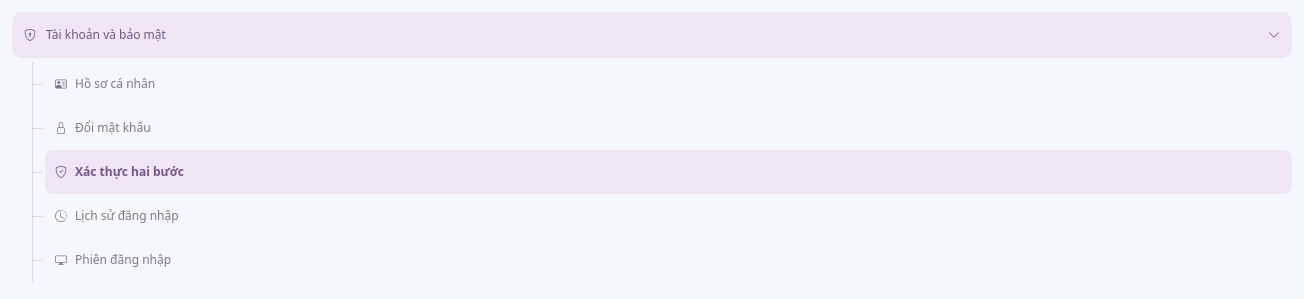
opens the account tree on a child route and links to all five screens
Check: the number of links is 5, box [55, 74, 155, 94]; [55, 118, 151, 138]; [45, 150, 1292, 194]; [55, 206, 179, 226]; [55, 250, 171, 270]
Click the button "Tài khoản và bảo mật" at (106, 35), box [12, 12, 1292, 58]
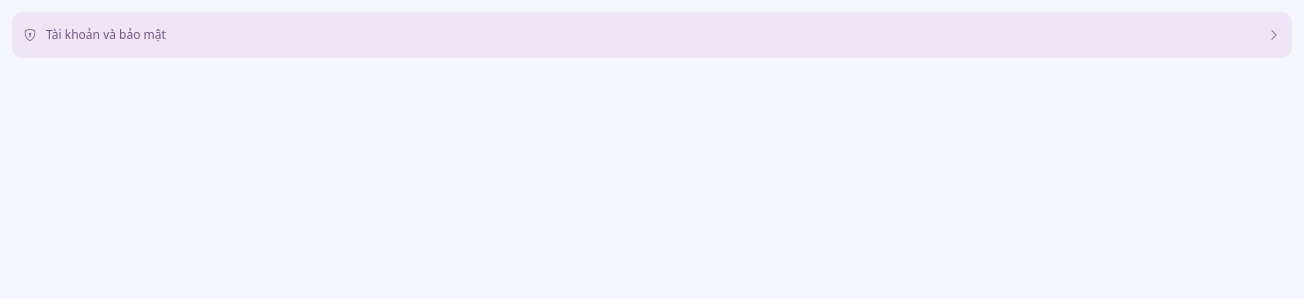
Check: no links are shown
